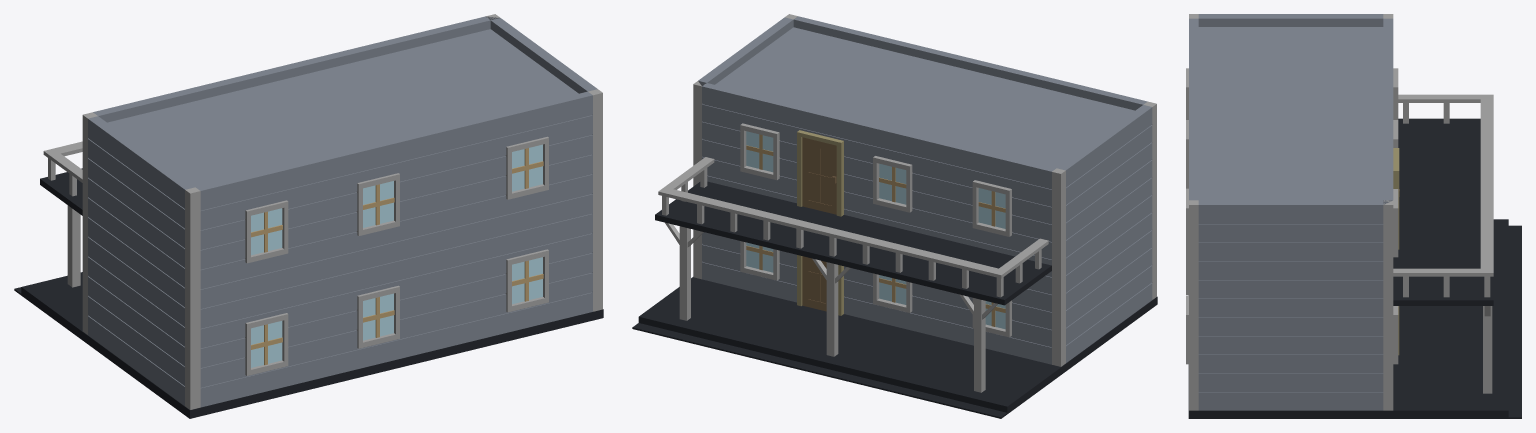
The model's file is House_01.fbx.
3 views of the same model, side by side, from view 1: azimuth 30°, elevation 25°; view 2: azimuth 150°, elevation 25°; view 3: azimuth 270°, elevation 25° (orthographic). The views are drawn at different scales.
Parts seen in each view (by area): view 1: House_01_Merged; view 2: House_01_Merged; view 3: House_01_Merged.
Part boxes in pixels (x1,y1,x2,y2): House_01_Merged: (14,14,603,418); House_01_Merged: (632,14,1157,418); House_01_Merged: (1186,14,1521,418).
Size of the model in its own units: 1000 by 520 by 741.
